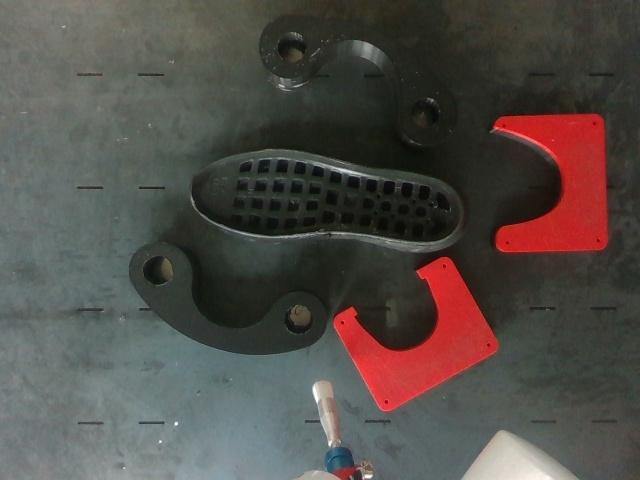shoes: (191, 150, 462, 242)
